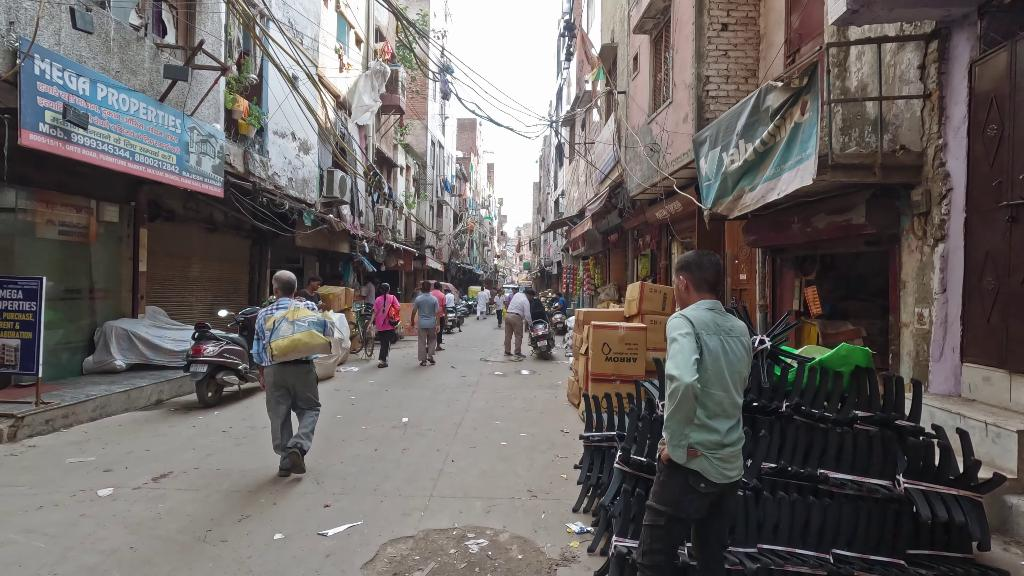garbage: (564, 520, 591, 536), (336, 365, 361, 374), (96, 487, 114, 497)
